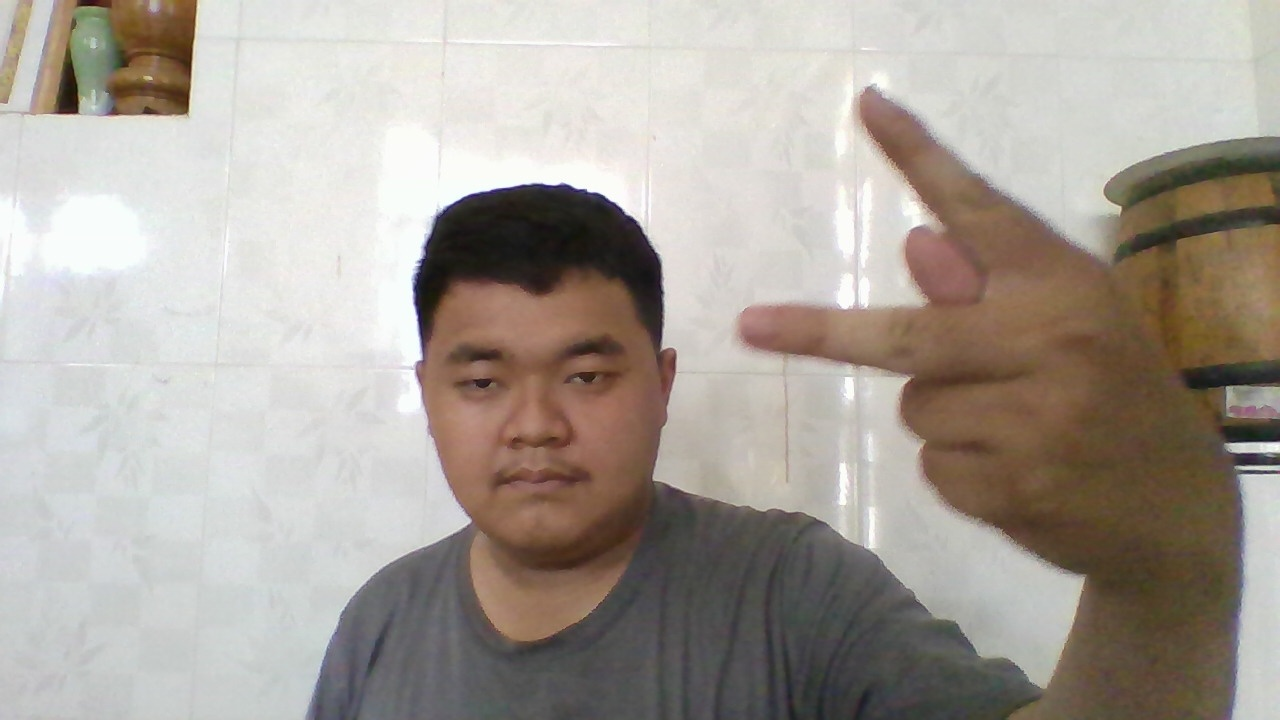K: (728, 92, 1212, 548)
